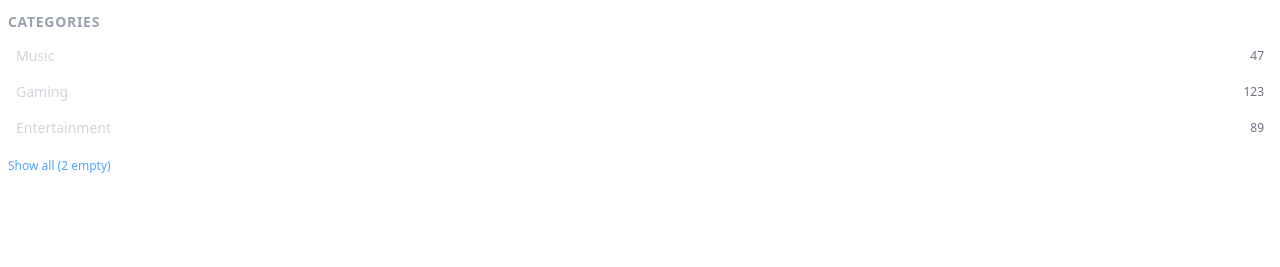
Test: SidebarCategories › Zero-Video Category Handling (T079, FR-033) › should hide empty categories again when toggle is clicked twice
Click the button with aria-label "Show 2 empty categories" at [59, 166], box [8,158,111,174]
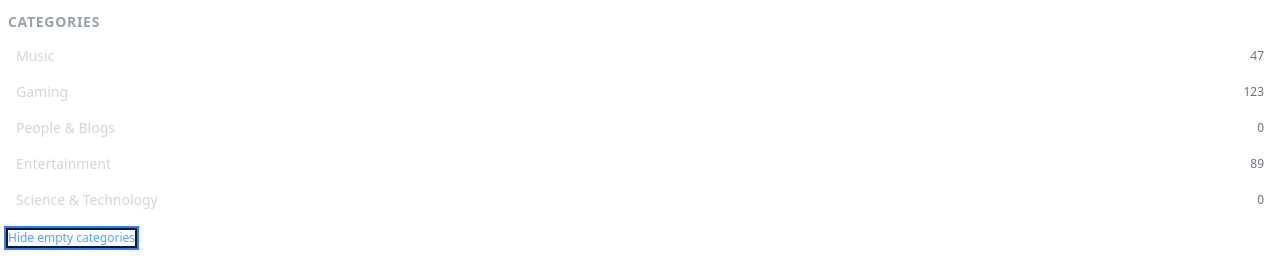
Check: the text "People & Blogs" is shown, box [16,118,115,138]
Click the button "Hide empty categories" at [72, 238], box [8,230,135,246]
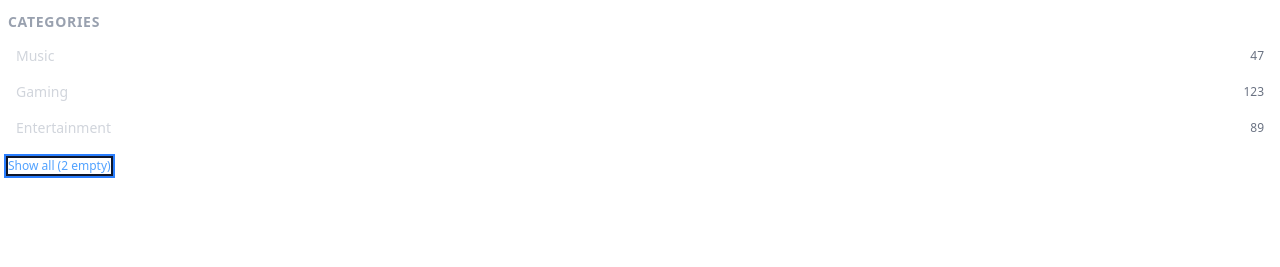
Check: the link "People & Blogs" is gone
